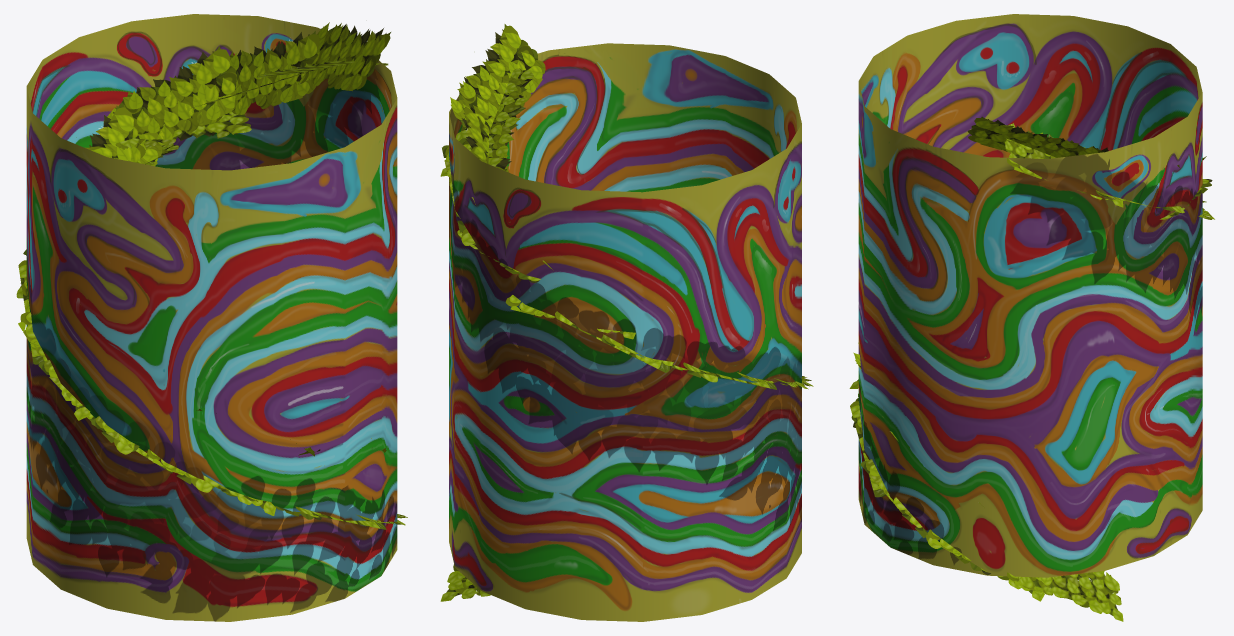
The model's file is hippie_biom.fbx.
3 views of the same model, side by side, from view 1: azimuth 30°, elevation 25°; view 2: azimuth 150°, elevation 25°; view 3: azimuth 270°, elevation 25° (orthographic). The views are drawn at different scales.
Parts seen in each view (by area): view 1: Cylinder001, Plane148, Plane149, Plane150, Plane147, Plane029, Plane022, Plane032, Plane019, Plane030; view 2: Cylinder001, Plane150, Plane020, Plane149, Plane153, Plane024, Plane033, Plane031; view 3: Cylinder001, Plane153, Plane150, Plane020, Plane018, Plane025, Plane021.
Part boxes in pixels (bbox=[...]): Cylinder001: bbox=[26, 14, 397, 621]; Plane148: bbox=[103, 46, 236, 162]; Plane149: bbox=[207, 31, 319, 124]; Plane150: bbox=[297, 22, 390, 91]; Plane147: bbox=[76, 105, 162, 166]; Plane029: bbox=[115, 111, 251, 149]; Plane022: bbox=[91, 416, 214, 492]; Plane032: bbox=[38, 360, 139, 454]; Plane019: bbox=[18, 312, 90, 420]; Plane030: bbox=[147, 449, 275, 515]; Cylinder001: bbox=[449, 43, 801, 621]; Plane150: bbox=[450, 24, 545, 132]; Plane020: bbox=[440, 68, 534, 176]; Plane149: bbox=[461, 106, 508, 204]; Plane153: bbox=[440, 564, 490, 601]; Plane024: bbox=[442, 138, 511, 245]; Plane033: bbox=[555, 311, 673, 372]; Plane031: bbox=[505, 295, 635, 339]; Cylinder001: bbox=[858, 14, 1202, 577]; Plane153: bbox=[1007, 571, 1123, 621]; Plane150: bbox=[967, 116, 1098, 157]; Plane020: bbox=[1005, 123, 1123, 207]; Plane018: bbox=[928, 529, 1053, 601]; Plane025: bbox=[850, 401, 889, 497]; Plane021: bbox=[860, 459, 940, 548].
Size of the model in its own units: 149 by 233 by 153.
